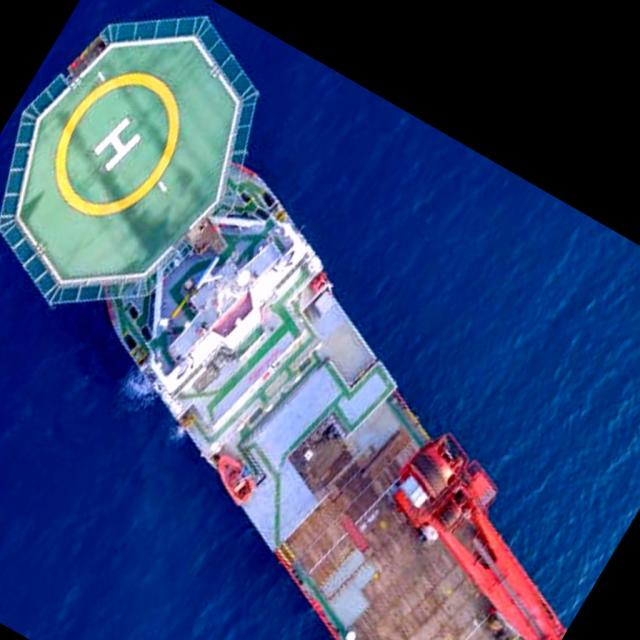helipad: (47, 70, 185, 220)
